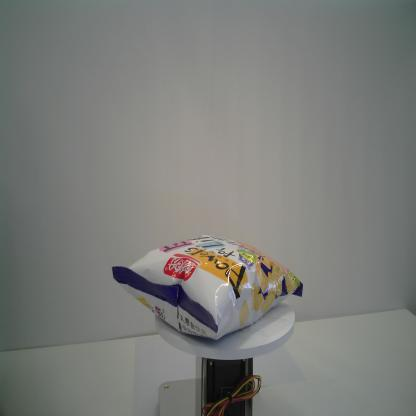Puffed Food: (111, 232, 304, 340)
